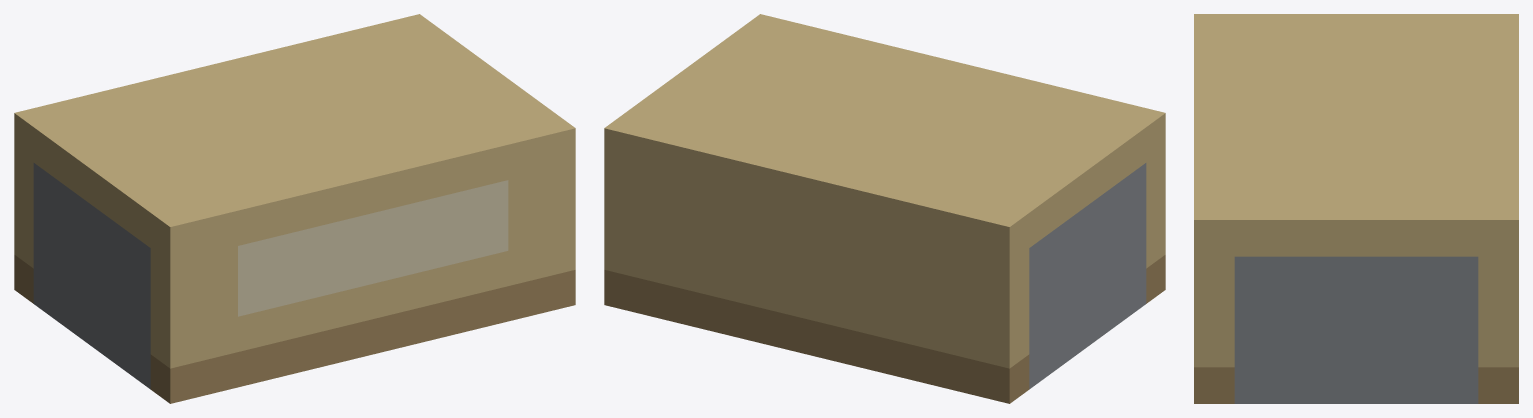
The model's file is pelvis.glb.
3 views of the same model, side by side, from view 1: azimuth 30°, elevation 25°; view 2: azimuth 150°, elevation 25°; view 3: azimuth 270°, elevation 25° (orthographic). The views are drawn at different scales.
Bounding box in the file's own units: 12 × 5 × 8.
